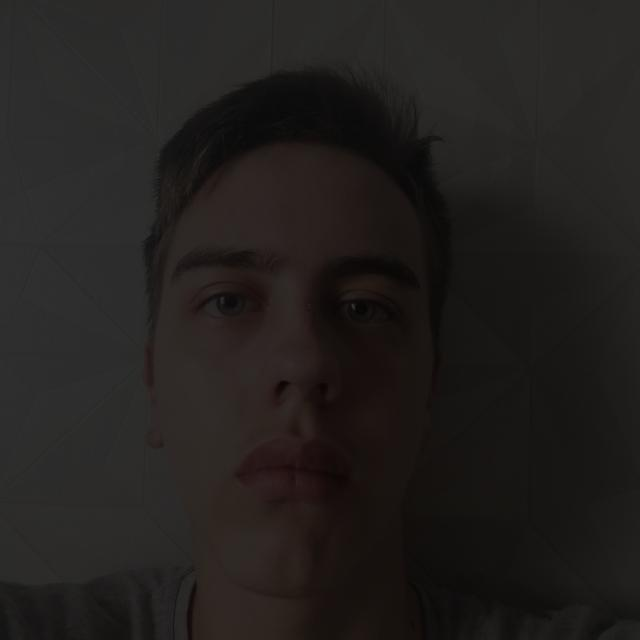Natural: (116, 103, 416, 571)
